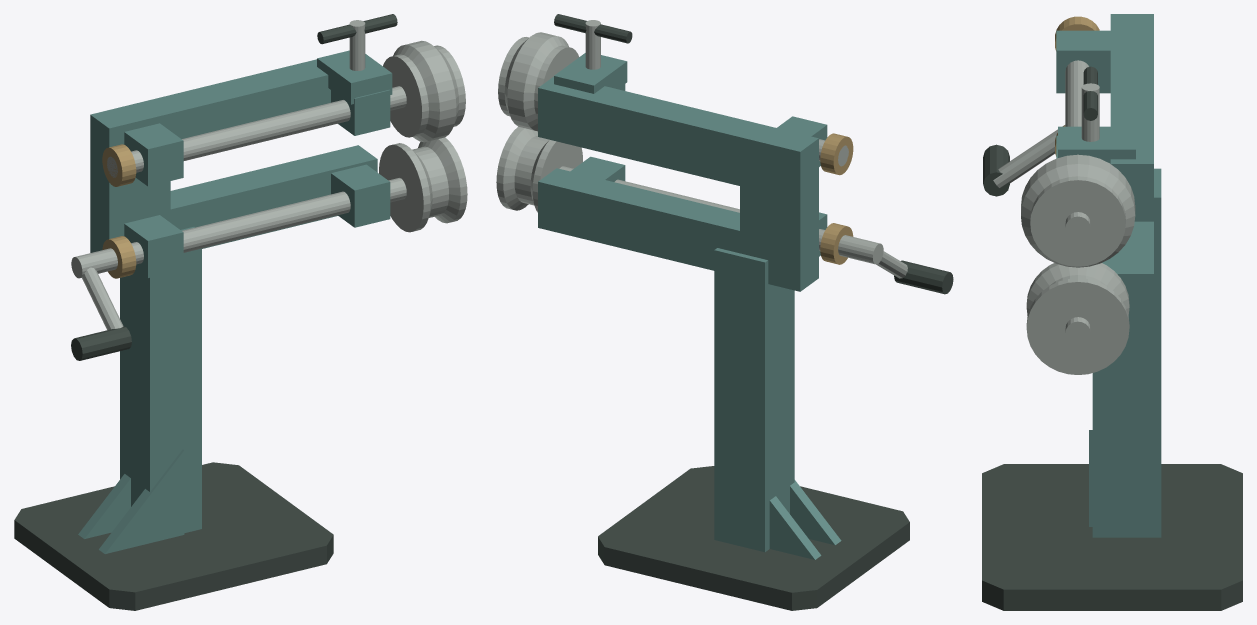
3 renders of one model, left to right at view 1: azimuth 30°, elevation 25°; view 2: azimuth 150°, elevation 25°; view 3: azimuth 270°, elevation 25°, orthographic. The views are drawn at different scales.
Parts seen in each view (by area): view 1: WholeChamferedPedestalBase, WholeLongHorizontalOpenThroatFrame, WholeUprightPedestal, WholeRaisedBeadUpperFormRoll, WholeRecessedLowerFormRoll, WholeLongParallelShaft0, WholeLongParallelShaft1, WholePedestalBrace-1, WholeShaftBearingBlock0_1, WholeShaftBearingBlock1_0, WholeShaftBearingBlock0_0, WholeUpperAdjustmentSeat (+8 smaller); view 2: WholeLongHorizontalOpenThroatFrame, WholeChamferedPedestalBase, WholeUprightPedestal, WholeRaisedBeadUpperFormRoll, WholeRecessedLowerFormRoll, WholeUpperAdjustmentSeat, WholePedestalBrace1, WholeLongParallelShaft0, WholePedestalBrace-1, WholeRearCrankGrip, WholeRearShaftCollar1, WholeShaftBearingBlock0_1 (+4 smaller); view 3: WholeChamferedPedestalBase, WholeUprightPedestal, WholeLongHorizontalOpenThroatFrame, WholeRaisedBeadUpperFormRoll, WholeRecessedLowerFormRoll, WholeShaftBearingBlock1_0, WholeUpperAdjustmentSeat, WholeLongParallelShaft1, WholeRearOffsetCrank, WholeRearCrankGrip, WholeUpperAdjustmentStem, WholeAdjustmentCrossHandle (+3 smaller).
Boxes of the visible parts, left/top/right/bottom form: WholeChamferedPedestalBase: left=14, top=462, right=333, bottom=610; WholeLongHorizontalOpenThroatFrame: left=90, top=59, right=377, bottom=252; WholeUprightPedestal: left=120, top=227, right=201, bottom=533; WholeRaisedBeadUpperFormRoll: left=383, top=40, right=465, bottom=142; WholeRecessedLowerFormRoll: left=379, top=137, right=467, bottom=232; WholeLongParallelShaft0: left=71, top=178, right=406, bottom=278; WholeLongParallelShaft1: left=107, top=86, right=406, bottom=177; WholePedestalBrace-1: left=99, top=449, right=184, bottom=553; WholeShaftBearingBlock0_1: left=331, top=164, right=390, bottom=227; WholeShaftBearingBlock1_0: left=124, top=123, right=183, bottom=186; WholeShaftBearingBlock0_0: left=124, top=215, right=183, bottom=277; WholeUpperAdjustmentSeat: left=317, top=50, right=392, bottom=104; WholeLongHorizontalOpenThroatFrame: left=538, top=76, right=818, bottom=291; WholeChamferedPedestalBase: left=598, top=466, right=909, bottom=610; WholeUprightPedestal: left=714, top=248, right=794, bottom=552; WholeRaisedBeadUpperFormRoll: left=498, top=32, right=578, bottom=131; WholeRecessedLowerFormRoll: left=496, top=126, right=582, bottom=212; WholeUpperAdjustmentSeat: left=554, top=53, right=627, bottom=93; WholePedestalBrace1: left=769, top=496, right=821, bottom=559; WholeLongParallelShaft0: left=559, top=166, right=883, bottom=264; WholePedestalBrace-1: left=790, top=480, right=841, bottom=545; WholeRearCrankGrip: left=894, top=260, right=953, bottom=294; WholeRearShaftCollar1: left=820, top=133, right=853, bottom=175; WholeShaftBearingBlock0_1: left=570, top=156, right=625, bottom=181; WholeChamferedPedestalBase: left=982, top=464, right=1242, bottom=610; WholeUprightPedestal: left=1092, top=168, right=1161, bottom=537; WholeLongHorizontalOpenThroatFrame: left=1110, top=14, right=1153, bottom=328; WholeRaisedBeadUpperFormRoll: left=1021, top=154, right=1135, bottom=267; WholeRecessedLowerFormRoll: left=1026, top=263, right=1129, bottom=374; WholeShaftBearingBlock1_0: left=1056, top=30, right=1110, bottom=93; WholeUpperAdjustmentSeat: left=1058, top=126, right=1135, bottom=163; WholeLongParallelShaft1: left=1065, top=60, right=1090, bottom=239; WholeRearOffsetCrank: left=993, top=125, right=1064, bottom=188; WholeRearCrankGrip: left=983, top=144, right=1009, bottom=196; WholeUpperAdjustmentStem: left=1081, top=83, right=1099, bottom=141; WholeAdjustmentCrossHandle: left=1083, top=66, right=1097, bottom=120.
Bounding box in the file's own units: 1.5 × 1.7 × 0.72.
